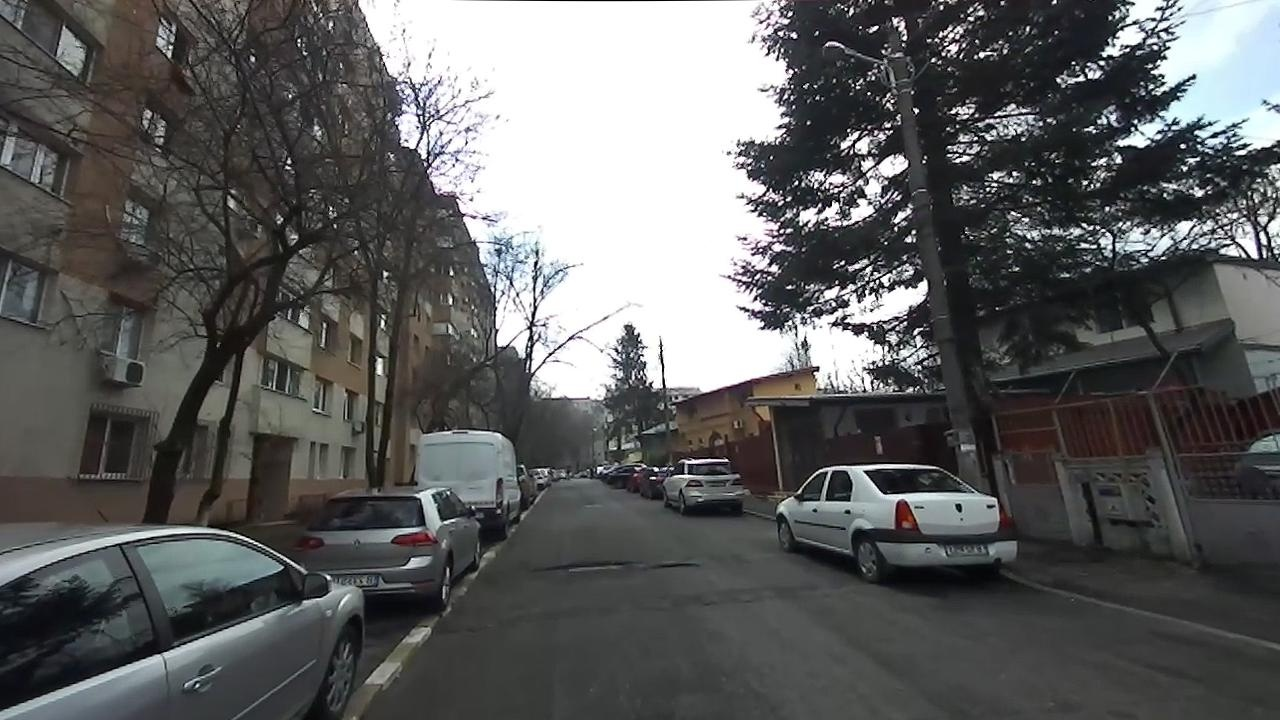pothole: (535, 558, 627, 573), (650, 562, 698, 572)
